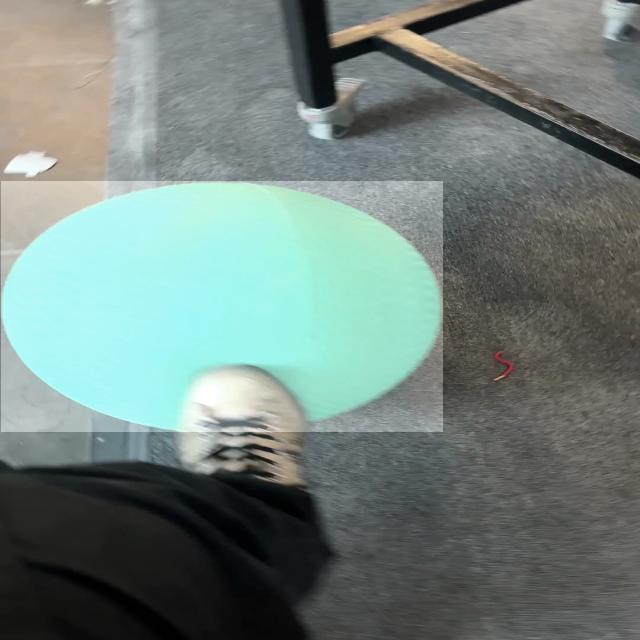Algae: (1, 181, 443, 432)
